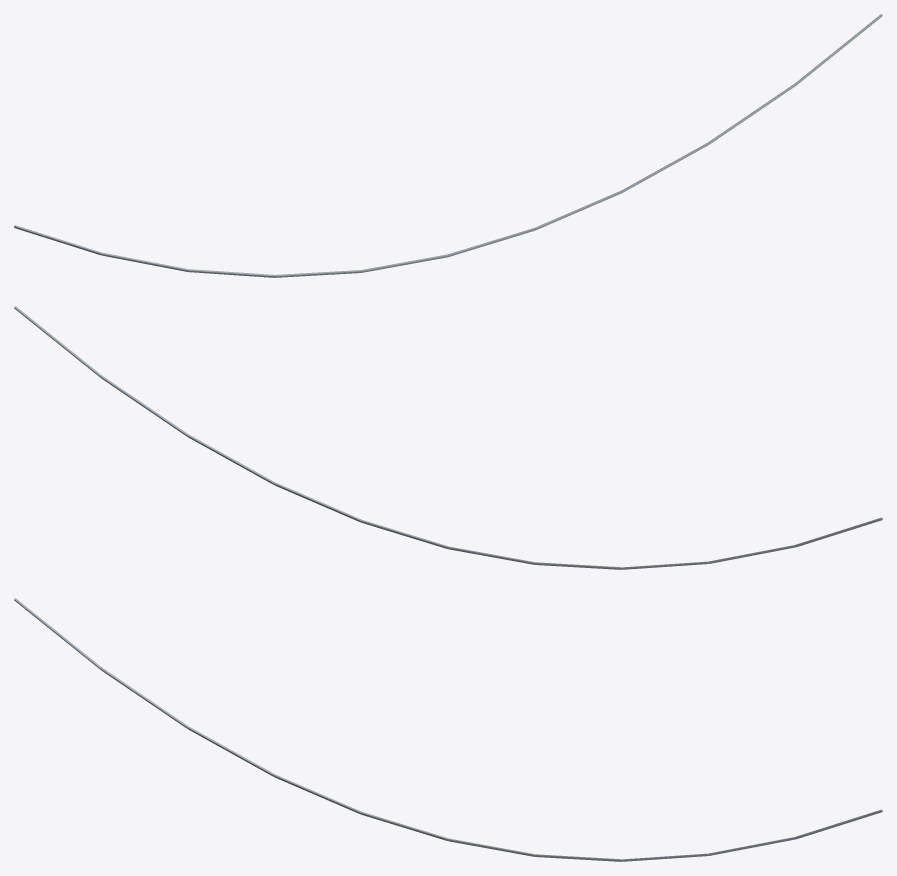
Rendered from wires_catenary.glb.
3 views of the same model, one above another, from view 1: azimuth 30°, elevation 25°; view 2: azimuth 150°, elevation 25°; view 3: azimuth 330°, elevation 25° (orthographic).
Visible parts, largest first — view 1: wires_catenary; view 2: wires_catenary; view 3: wires_catenary.
Boxes of the visible parts, x1=… form: wires_catenary: x1=14, y1=14, x2=882, y2=277; wires_catenary: x1=14, y1=306, x2=882, y2=569; wires_catenary: x1=14, y1=598, x2=882, y2=861.
Bounding box in the file's own units: 7.41 × 1.12 × 0.0212.
